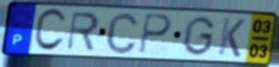C: (31, 7, 68, 54), (104, 10, 141, 56)
G: (180, 15, 217, 57)
K: (216, 16, 247, 59)
P: (138, 12, 174, 55)
R: (65, 11, 101, 52)
